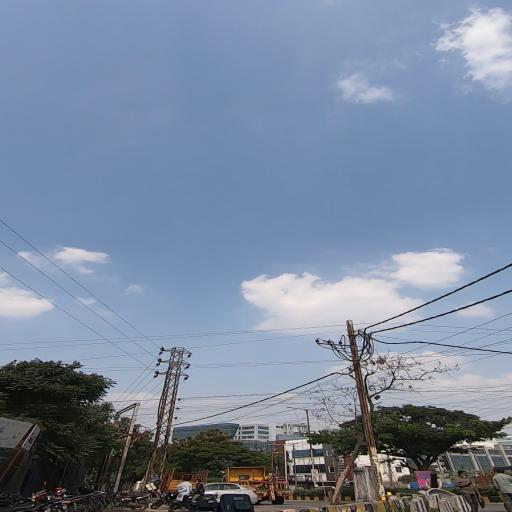Street_light: (280, 404, 304, 412), (305, 406, 328, 414)
